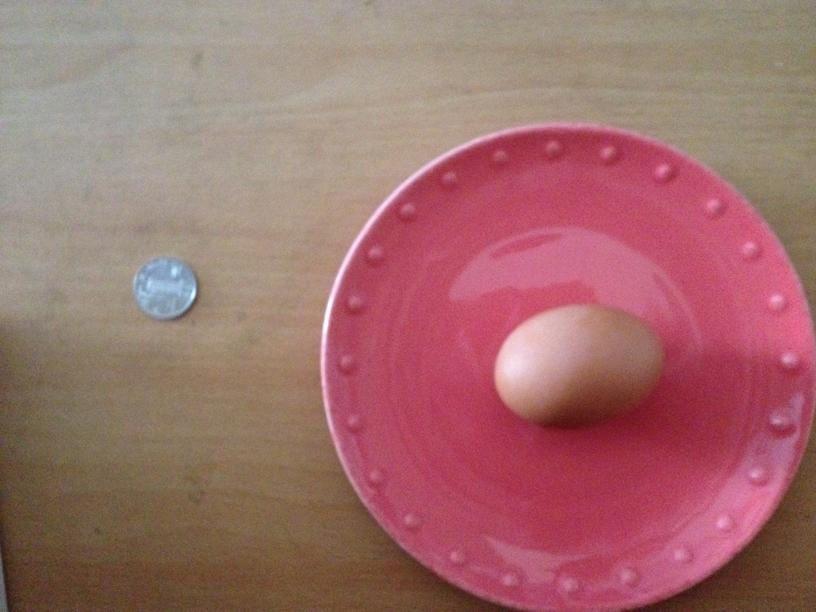coin: (128, 256, 200, 316)
egg: (494, 308, 665, 425)
